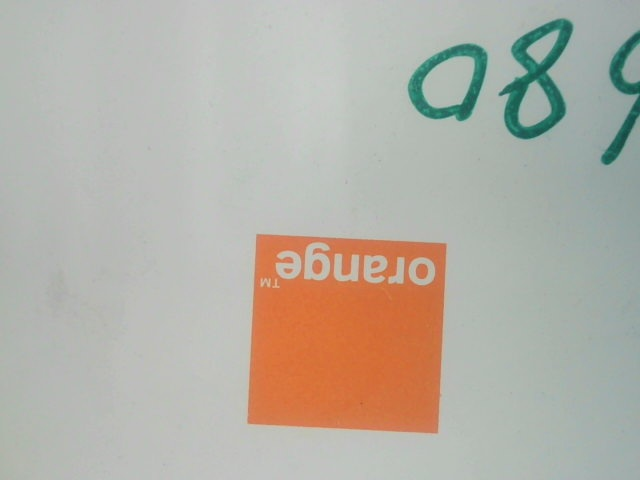AR_Orange: (247, 222, 446, 436)
